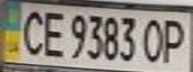3: (118, 14, 142, 63), (84, 11, 106, 61)
8: (103, 12, 124, 62)
9: (63, 10, 87, 60)
C: (15, 6, 48, 57)
E: (36, 7, 69, 60)
O: (139, 16, 169, 64)
P: (157, 16, 193, 65)
